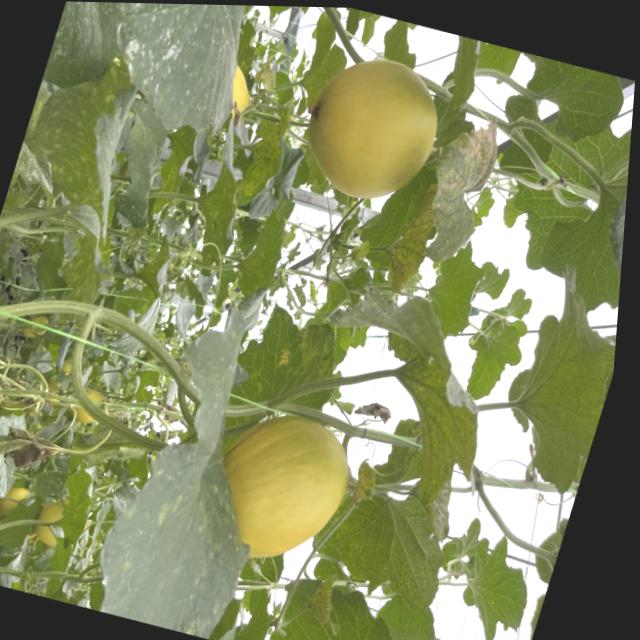CMV: (331, 291, 526, 517), (488, 263, 621, 494), (303, 470, 472, 620), (406, 101, 516, 276), (379, 202, 444, 304)
downy mildew: (79, 296, 324, 640)
powdery mildew: (83, 2, 271, 144)
